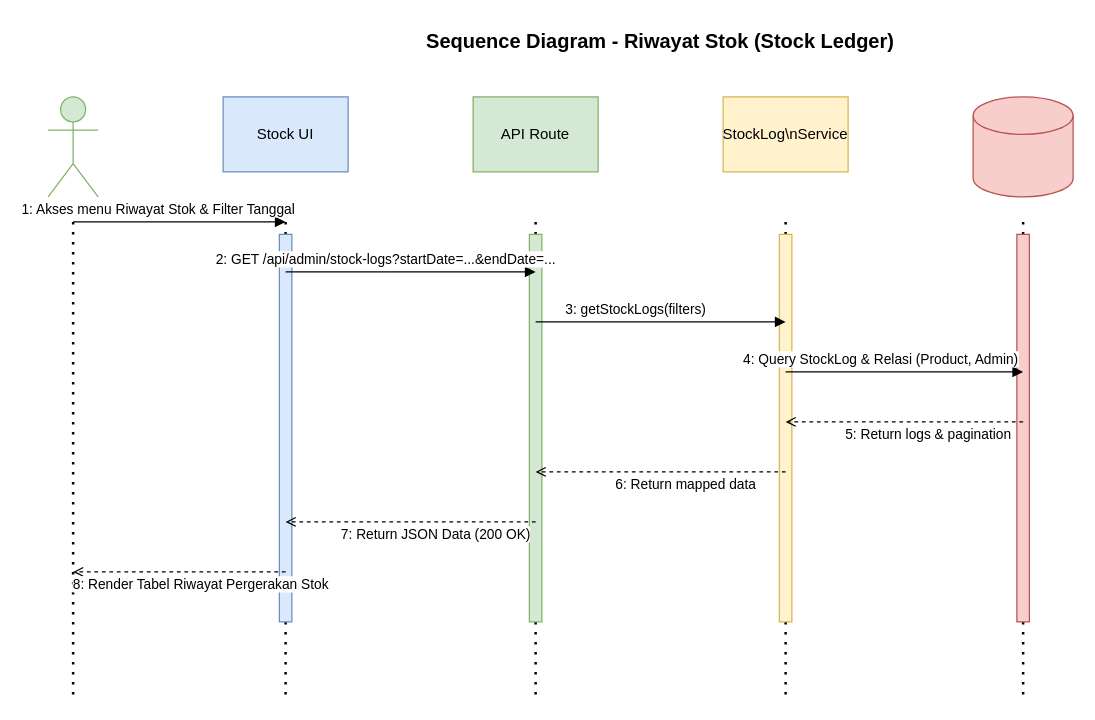
The diagram is 1095 pixels wide and 720 high, and some of its shapes have lost their labels. Here are the shapes that lost their labels. From the top down, the centre of each, then its label:
At pixel 72 146: "Admin / Kasir".
At pixel 1022 146: "Database".
